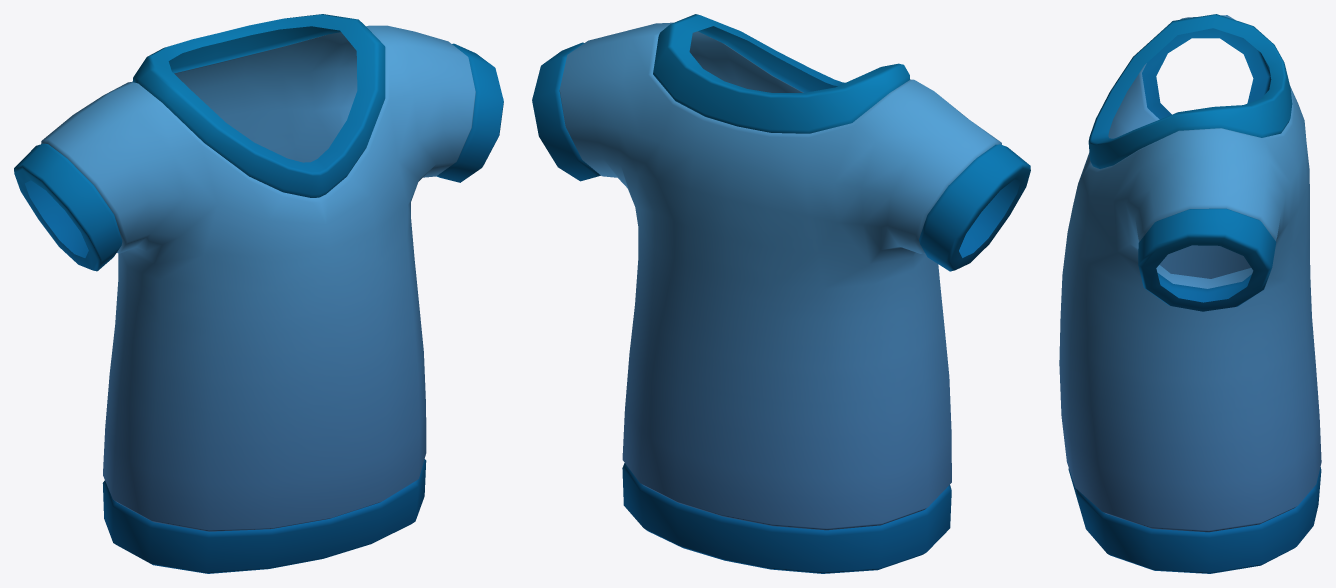
File: t_shirt_009.glb
3 renders of one model, left to right at view 1: azimuth 30°, elevation 25°; view 2: azimuth 150°, elevation 25°; view 3: azimuth 270°, elevation 25°, orthographic. The views are drawn at different scales.
Parts seen in each view (by area): view 1: T_Shirt_009; view 2: T_Shirt_009; view 3: T_Shirt_009.
Part boxes in pixels (x1=…): T_Shirt_009: x1=14, y1=14, x2=503, y2=573; T_Shirt_009: x1=532, y1=14, x2=1030, y2=573; T_Shirt_009: x1=1059, y1=14, x2=1321, y2=573.
Size of the model in its own units: 0.6297 by 0.6134 by 0.3269.
1 material, 1 textured.
